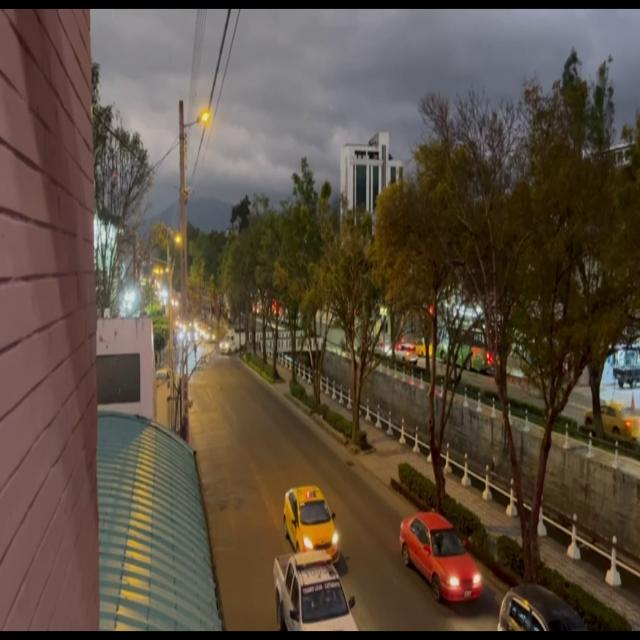CMT: (274, 551, 358, 631)
SED: (401, 511, 484, 603), (283, 483, 342, 561), (498, 584, 586, 631)
